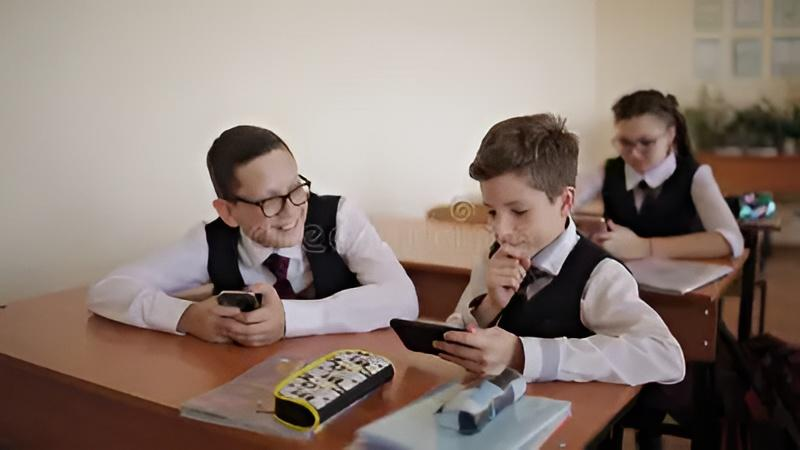phone: (396, 114, 686, 389), (88, 121, 416, 348), (564, 90, 743, 262)
